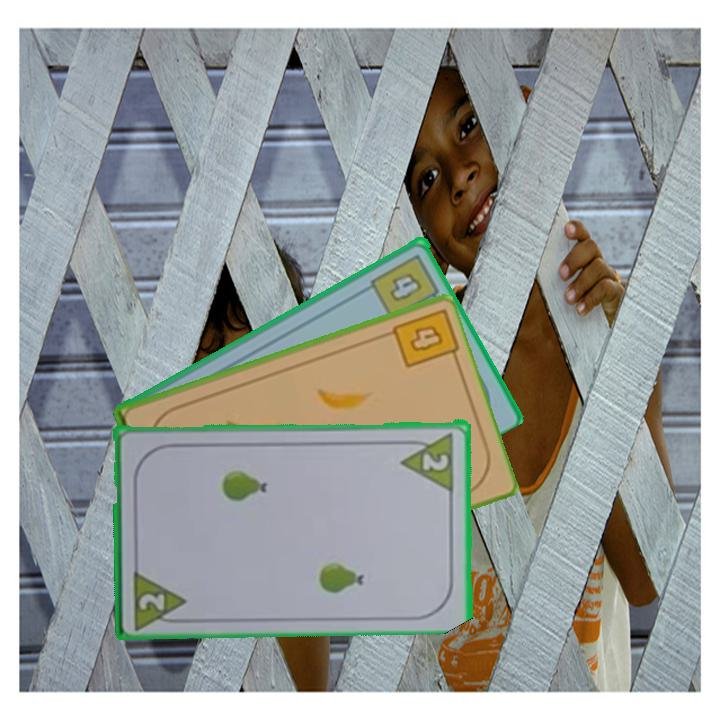2p: (397, 428, 457, 492), (130, 565, 189, 630)
4b: (367, 249, 444, 321), (406, 320, 447, 354)
